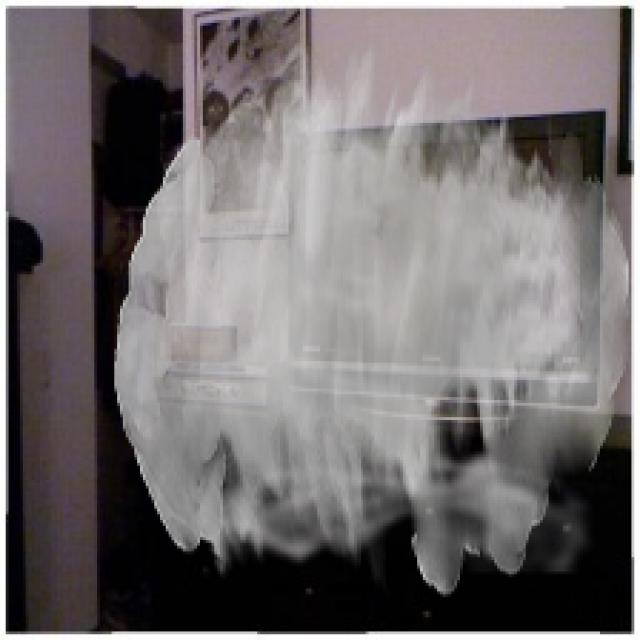smoke: (114, 34, 632, 597)
